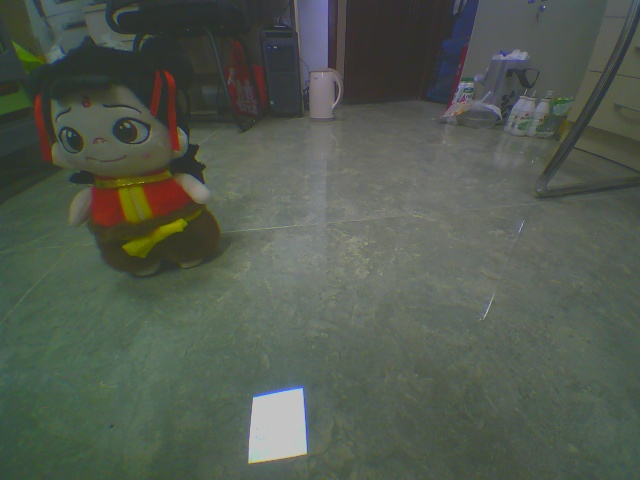Nezha2: (27, 34, 222, 277)
